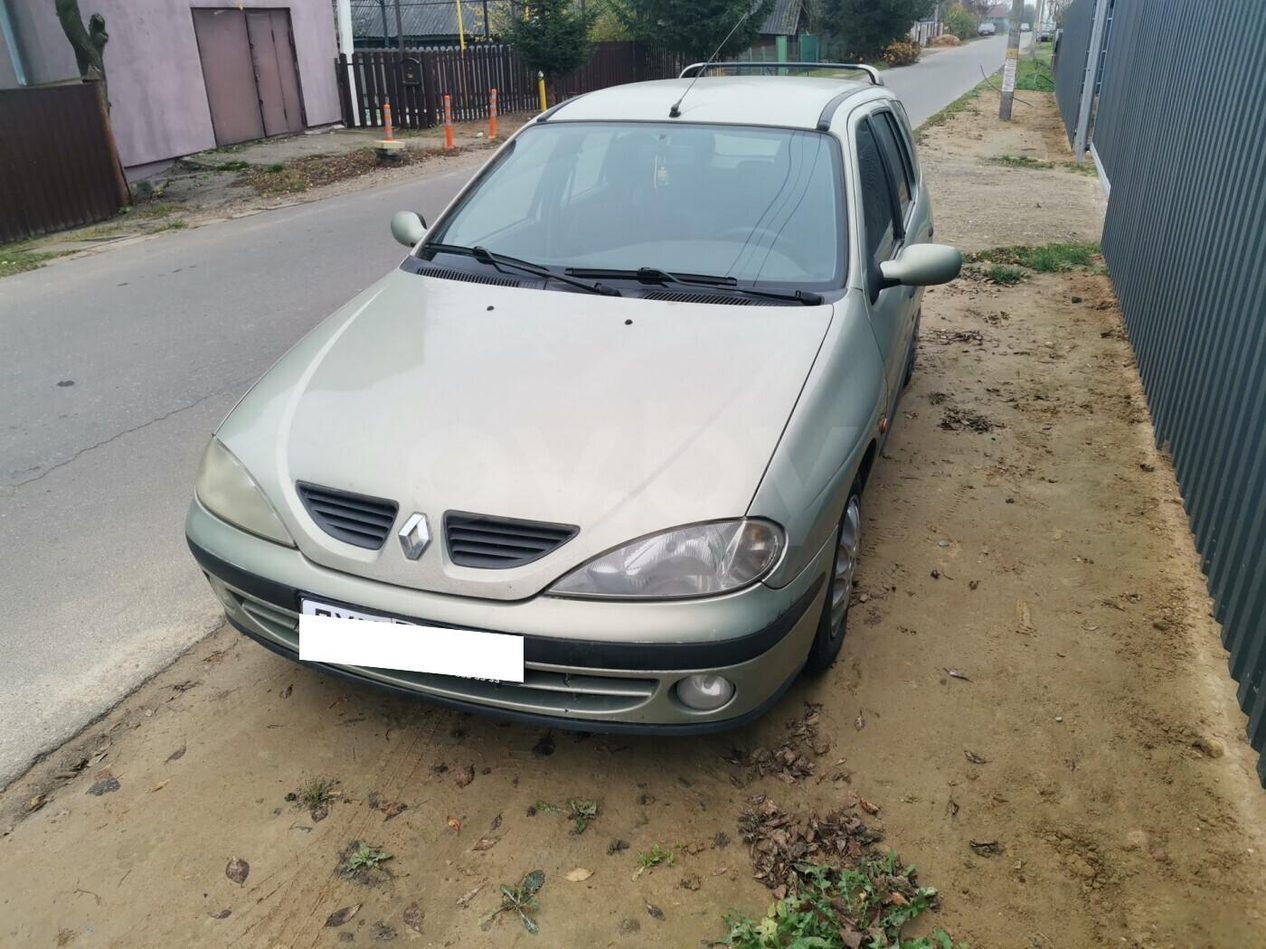Megane_1999-2003: (183, 65, 952, 736)
